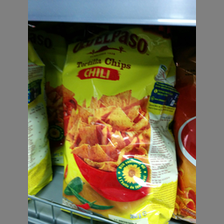chips: (63, 39, 172, 222)
